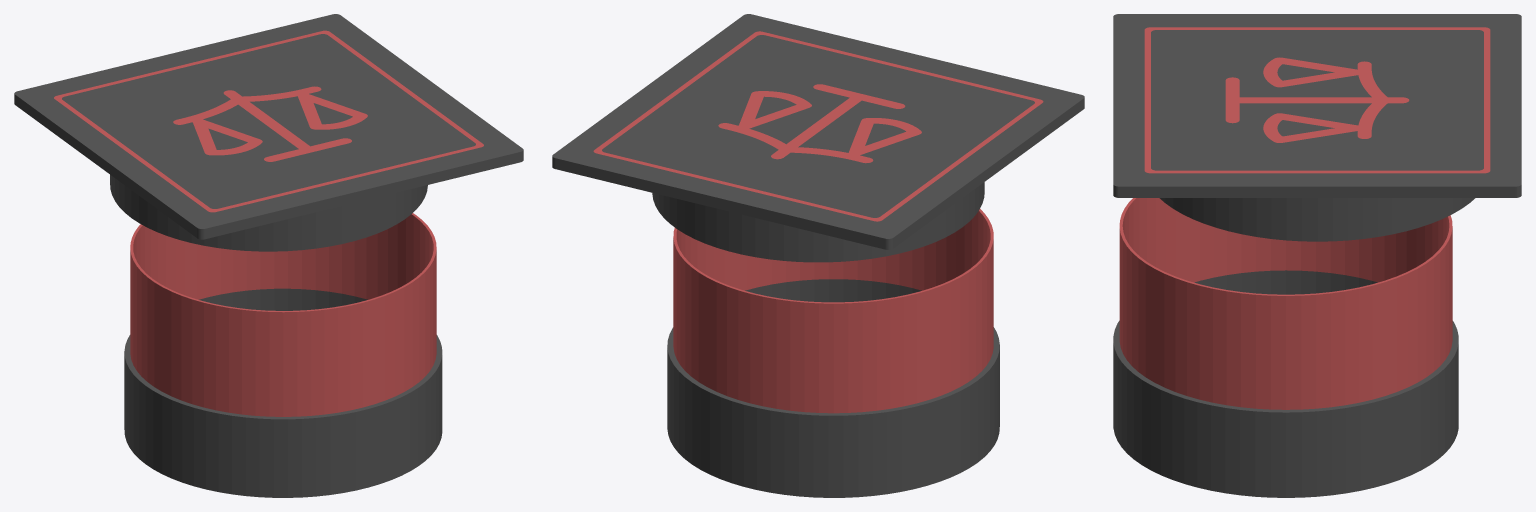
File: bomboniera-giurisprudenza-facolta-aperto.glb
3 views of the same model, side by side, from view 1: azimuth 30°, elevation 25°; view 2: azimuth 150°, elevation 25°; view 3: azimuth 270°, elevation 25° (orthographic). The views are drawn at different scales.
Parts seen in each view (by area): view 1: struttura_coperchio, fascia, struttura_base, simbolo_intarsio, bordo; view 2: struttura_coperchio, fascia, struttura_base, simbolo_intarsio, bordo; view 3: struttura_coperchio, fascia, struttura_base, simbolo_intarsio, bordo.
Boxes of the visible parts, left/top/right/bottom form: struttura_coperchio: left=14, top=14, right=523, bottom=251; fascia: left=130, top=213, right=436, bottom=416; struttura_base: left=124, top=288, right=442, bottom=497; simbolo_intarsio: left=173, top=86, right=367, bottom=161; bordo: left=54, top=30, right=483, bottom=212; struttura_coperchio: left=552, top=14, right=1084, bottom=262; fascia: left=673, top=209, right=993, bottom=413; struttura_base: left=667, top=279, right=999, bottom=497; simbolo_intarsio: left=718, top=84, right=921, bottom=163; bordo: left=593, top=31, right=1043, bottom=221; struttura_coperchio: left=1113, top=14, right=1521, bottom=241; fascia: left=1119, top=198, right=1452, bottom=409; struttura_base: left=1113, top=270, right=1458, bottom=497; simbolo_intarsio: left=1225, top=57, right=1409, bottom=142; bordo: left=1144, top=27, right=1490, bottom=173.
Size of the model in its own units: 0.065 by 0.057 by 0.065.
